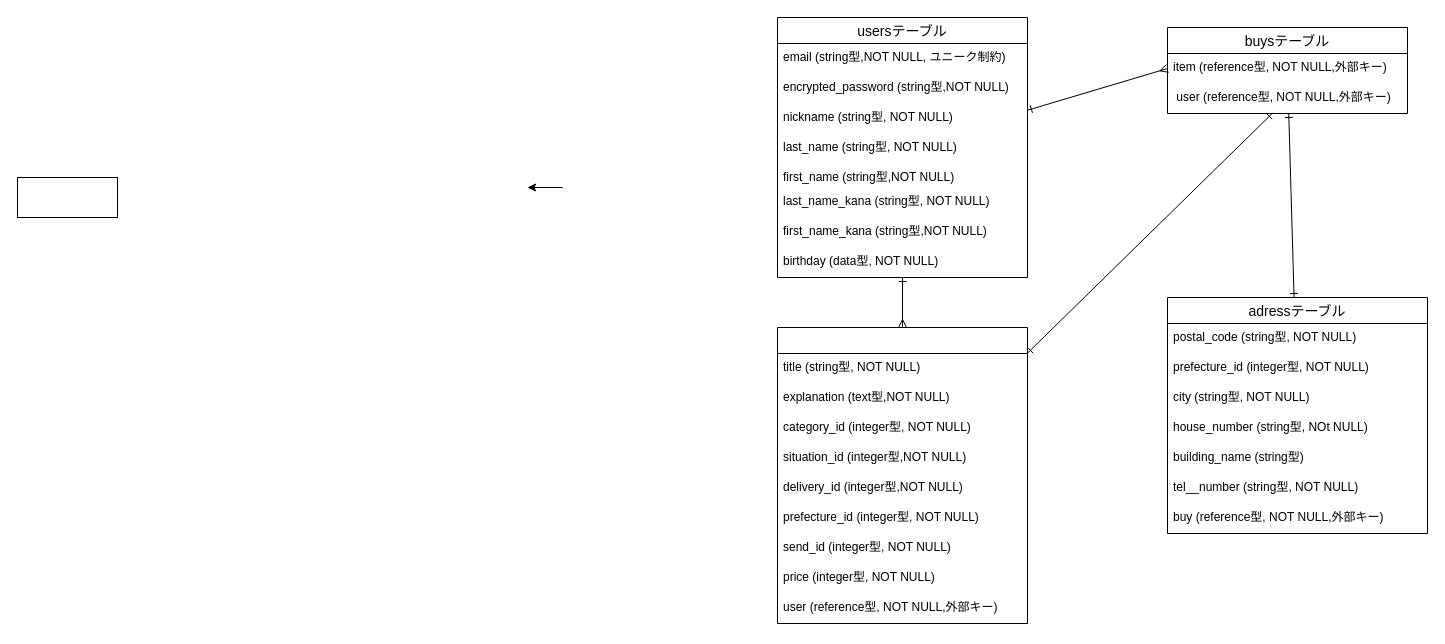
The diagram is 1445 pixels wide and 644 high, and some of its shapes have lost their labels. The shapes that lost their labels are listed below. From the top down, each one's box as (x1, y1, x2, y2) in pixels, then its label:
(16, 176, 118, 218): Entity
(776, 326, 1028, 624): itemsテーブル
